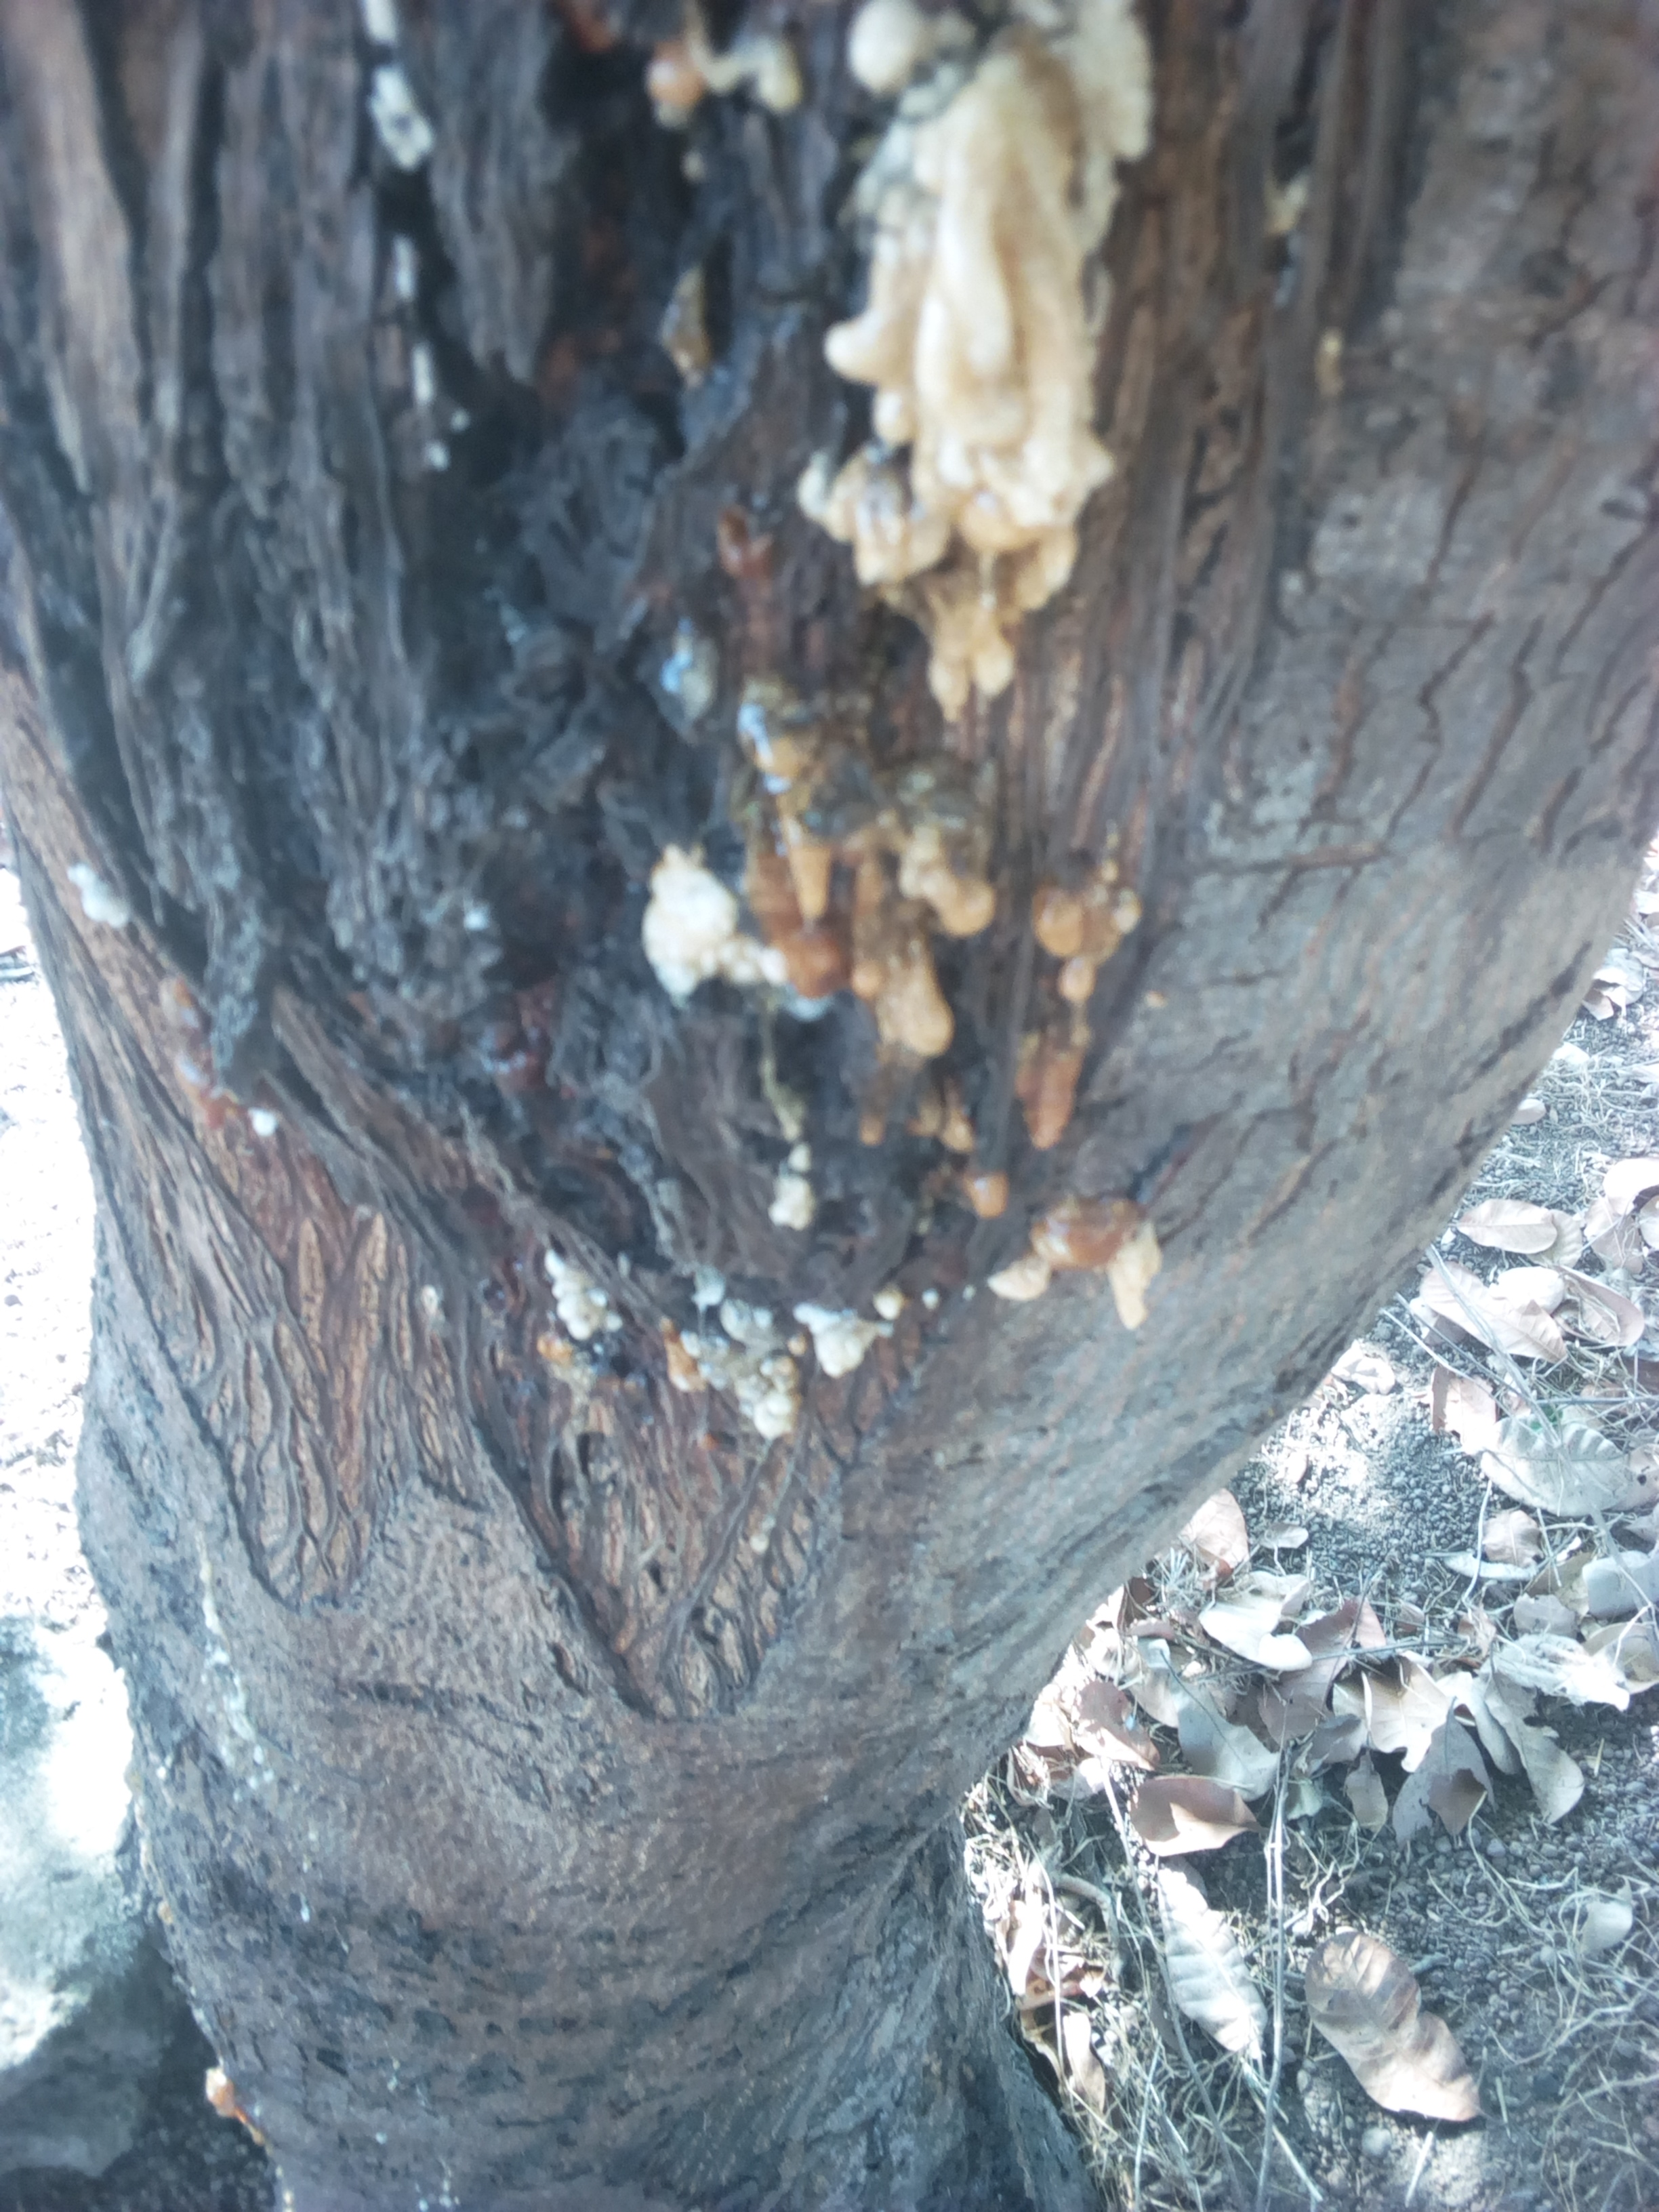Gommose: (173, 12, 1145, 1510)
